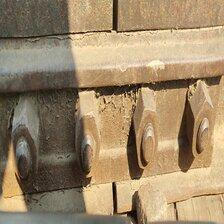railway-gap: (74, 160, 153, 224), (96, 0, 134, 33)
